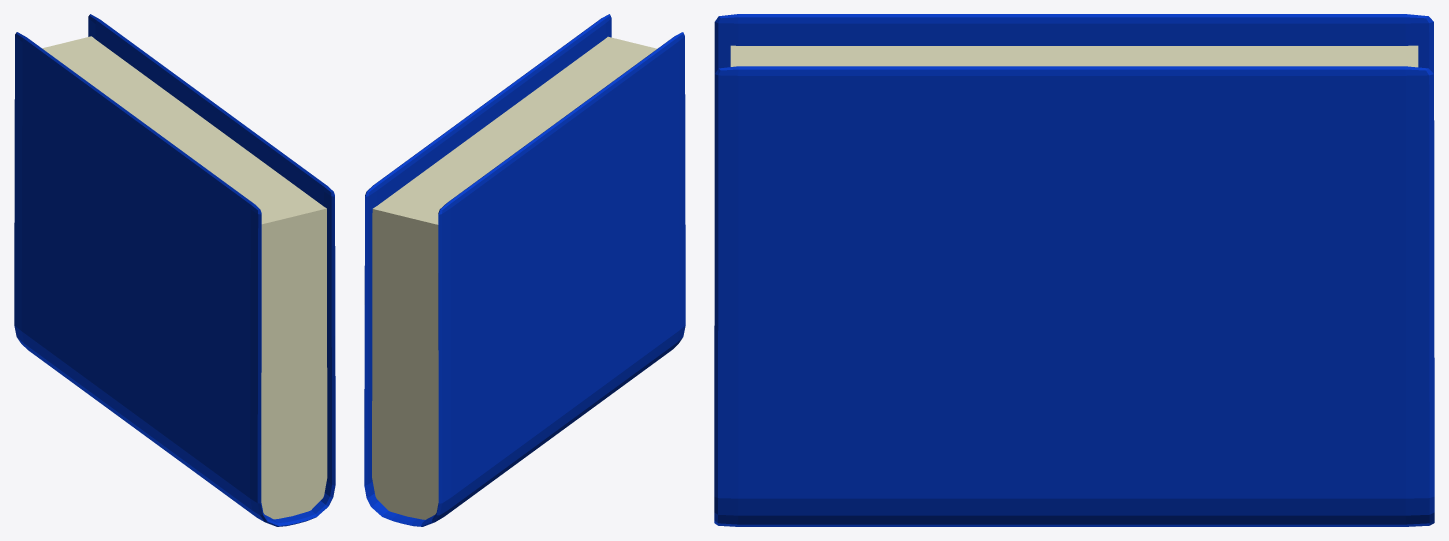
Rendered from closedBook_blue.fbx.
3 renders of one model, left to right at view 1: azimuth 30°, elevation 25°; view 2: azimuth 150°, elevation 25°; view 3: azimuth 270°, elevation 25°, orthographic. The views are drawn at different scales.
Parts seen in each view (by area): view 1: book_cover, book_pages; view 2: book_cover, book_pages; view 3: book_cover, book_pages.
Part boxes in pixels (x1=…): book_cover: x1=14, y1=14, x2=335, y2=526; book_pages: x1=42, y1=36, x2=327, y2=519; book_cover: x1=364, y1=14, x2=685, y2=526; book_pages: x1=372, y1=36, x2=656, y2=519; book_cover: x1=714, y1=14, x2=1434, y2=526; book_pages: x1=730, y1=45, x2=1418, y2=67.
Size of the model in its own units: 4.33 by 16.92 by 23.23.
